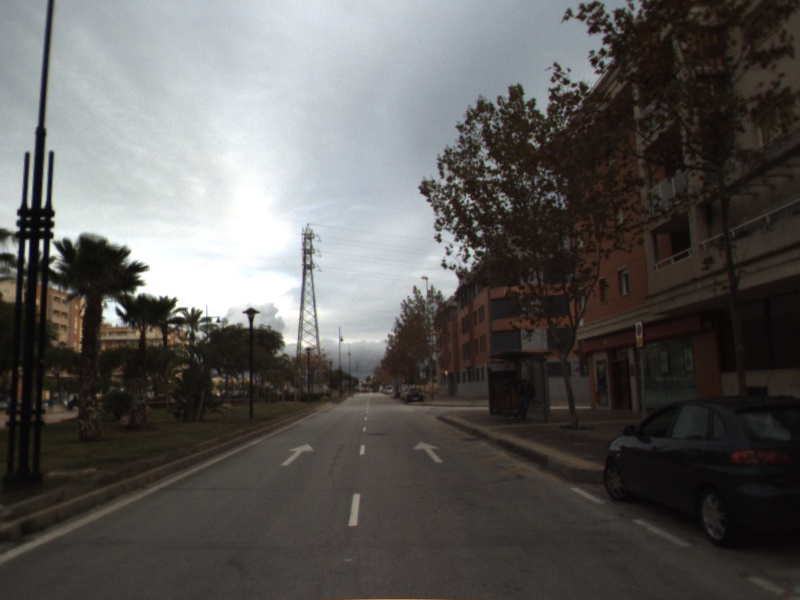STRAIGHT: (279, 441, 316, 468), (411, 439, 446, 465)
